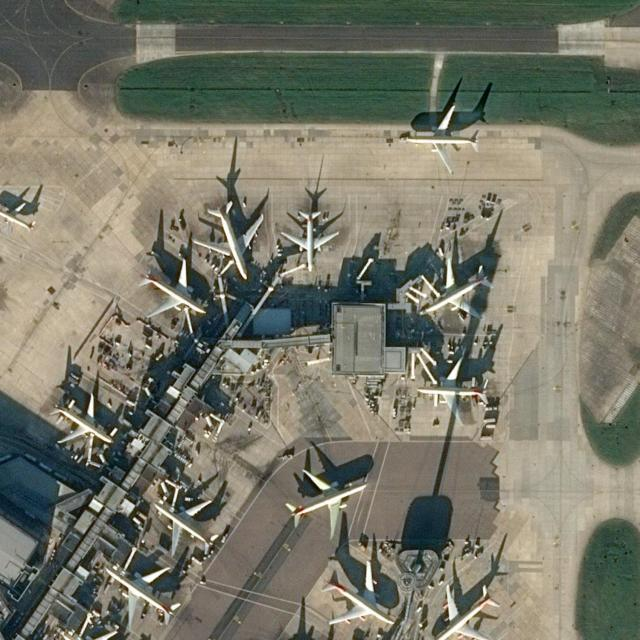Aircraft: (285, 466, 371, 540), (193, 197, 267, 280), (403, 104, 483, 174), (103, 563, 183, 629), (417, 355, 492, 425), (321, 560, 397, 626), (420, 256, 496, 320), (427, 581, 503, 640), (138, 258, 208, 319), (152, 496, 222, 557), (283, 207, 341, 271), (50, 390, 116, 446), (0, 200, 38, 236)
